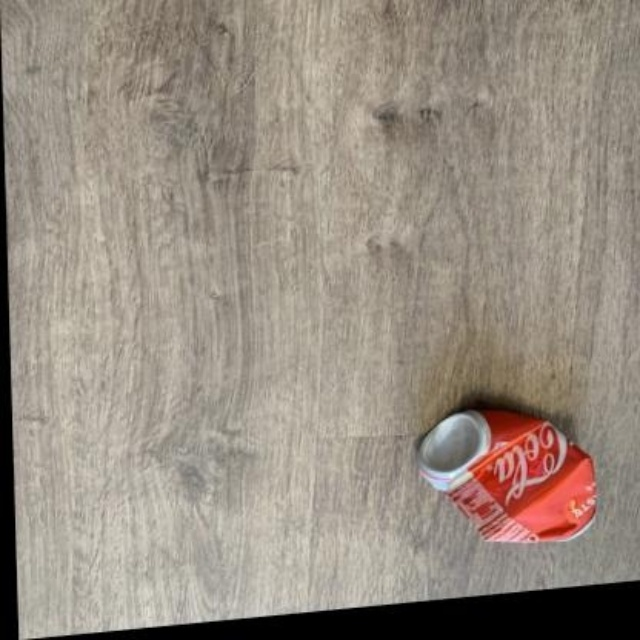trash: (418, 409, 595, 540)
